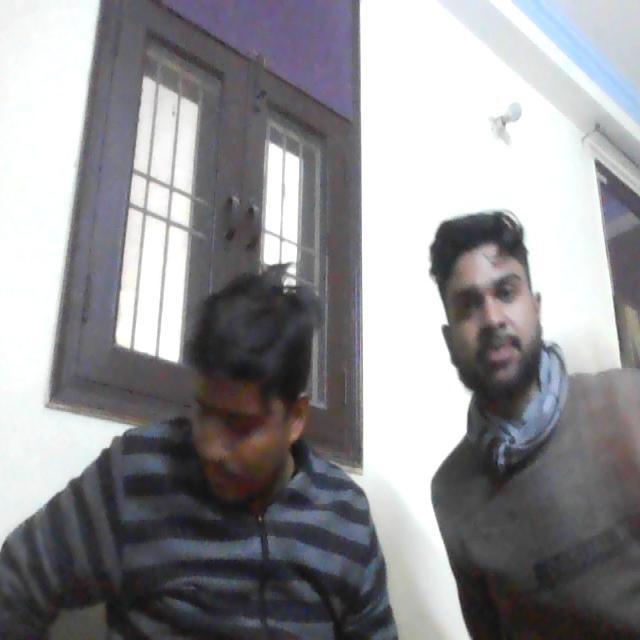real: (437, 189, 546, 395)
